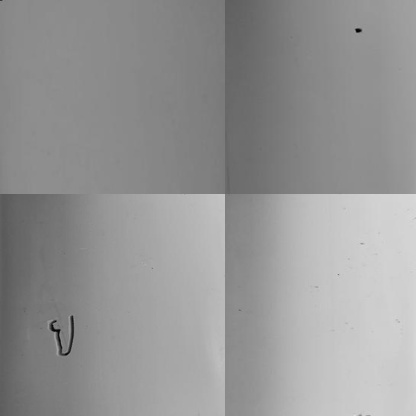fengxi: (43, 313, 88, 361)
kongdong: (352, 28, 361, 33)
